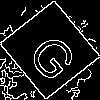G: (25, 25, 87, 85)
